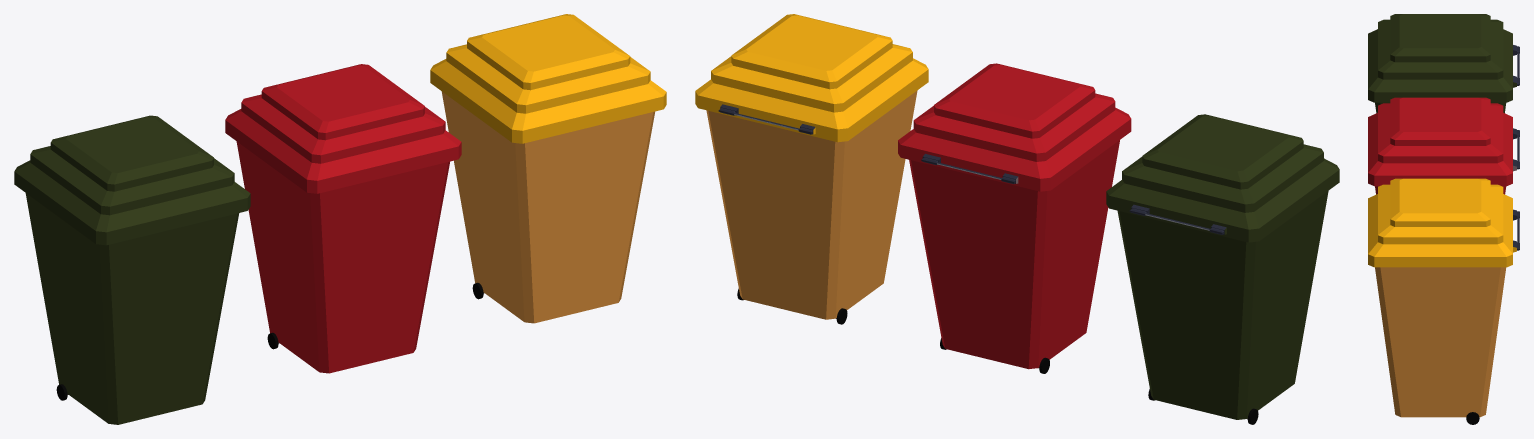
File: TrashTripleJOINED.fbx
The picture shows the model from 3 angles, left to right: view 1: azimuth 30°, elevation 25°; view 2: azimuth 150°, elevation 25°; view 3: azimuth 270°, elevation 25°; orthographic projection. The views are drawn at different scales.
Parts seen in each view (by area): view 1: Cube.001; view 2: Cube.001; view 3: Cube.001.
Boxes of the visible parts, bbox=[...] form: Cube.001: bbox=[14, 14, 666, 424]; Cube.001: bbox=[695, 14, 1339, 424]; Cube.001: bbox=[1368, 14, 1519, 424].
Bounding box in the file's own units: 1180 × 508 × 335.
